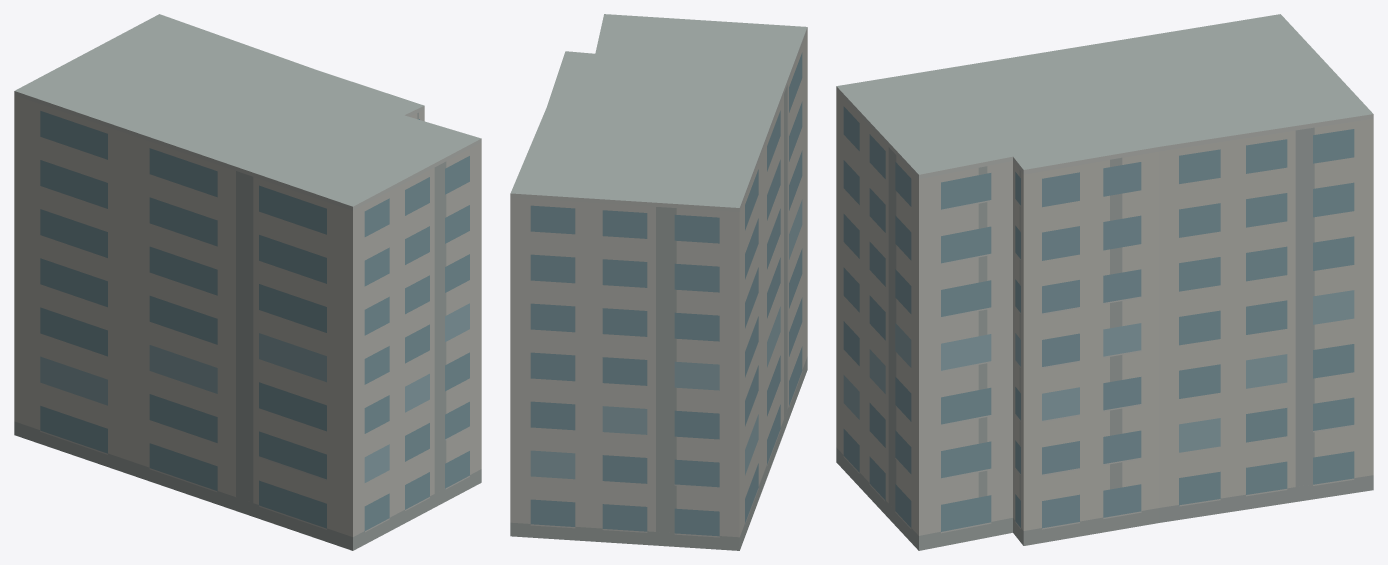
The model's file is survey-upis-32857759.glb.
3 renders of one model, left to right at view 1: azimuth 30°, elevation 25°; view 2: azimuth 150°, elevation 25°; view 3: azimuth 270°, elevation 25°, orthographic. The views are drawn at different scales.
Visible parts, largest first — view 1: survey-upis-32857759.tmp; view 2: survey-upis-32857759.tmp; view 3: survey-upis-32857759.tmp.
Boxes of the visible parts, <box> form: survey-upis-32857759.tmp: <box>14,14,481,550</box>; survey-upis-32857759.tmp: <box>510,14,807,550</box>; survey-upis-32857759.tmp: <box>836,14,1373,550</box>.
Size of the model in its own units: 18.72 by 20.4 by 26.42.
